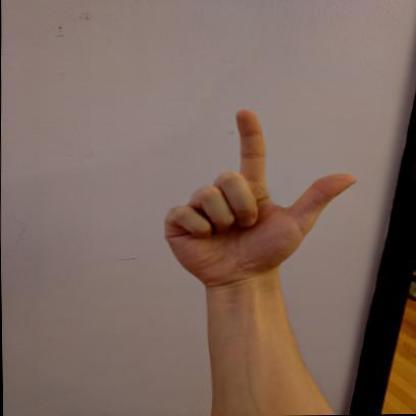L: (156, 104, 362, 294)
